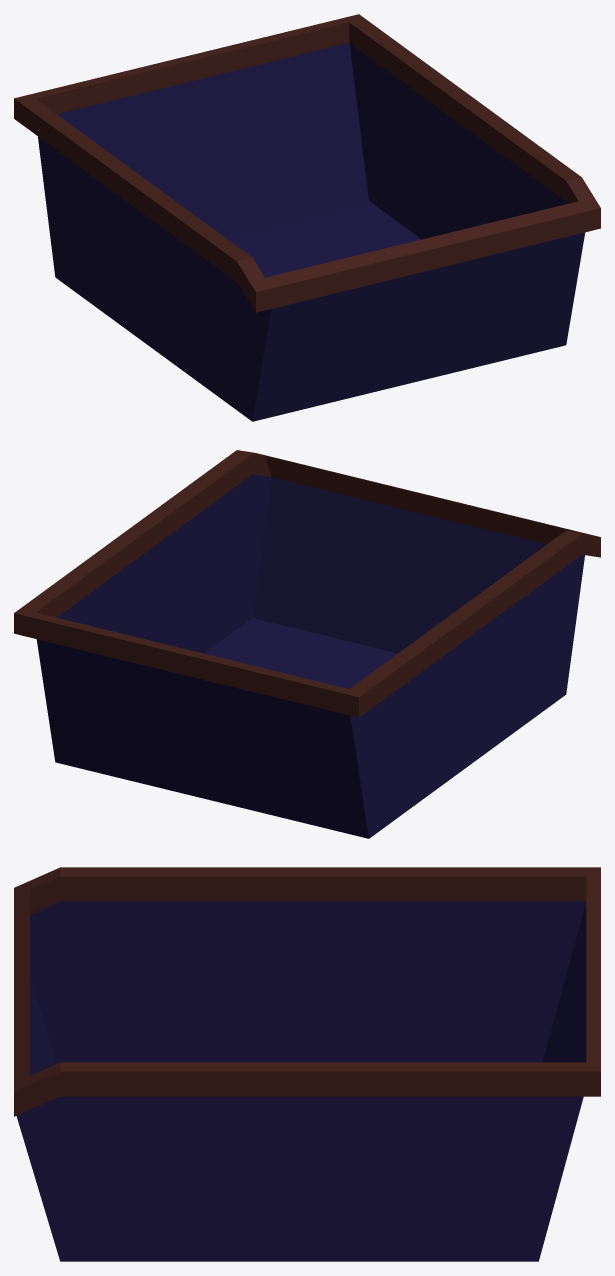
File: SkipColoured.fbx
3 renders of one model, top to bottom at view 1: azimuth 30°, elevation 25°; view 2: azimuth 150°, elevation 25°; view 3: azimuth 270°, elevation 25°, orthographic. The views are drawn at different scales.
Visible parts, largest first — view 1: Cube; view 2: Cube; view 3: Cube.
Boxes of the visible parts, box(x1,y1,x2,y2) form: Cube: box(14, 14, 600, 421); Cube: box(14, 450, 600, 838); Cube: box(14, 867, 600, 1261).
Bounding box in the file's own units: 660 × 300 × 801.
